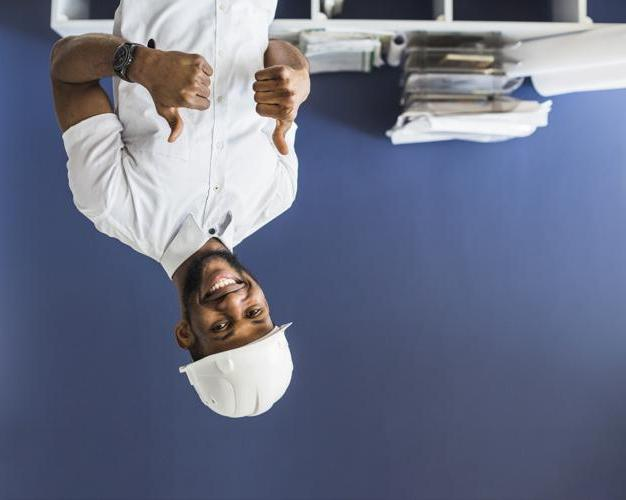thumbsdown: (167, 53, 213, 143), (252, 66, 295, 155)
